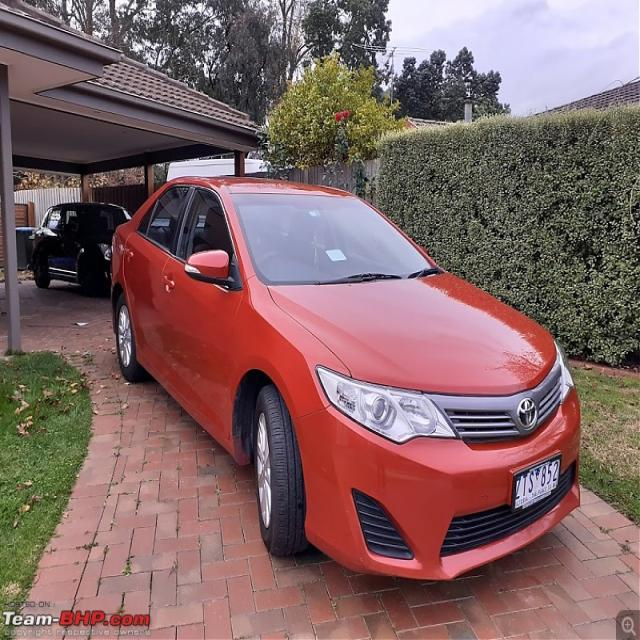light_vehicle: (107, 172, 584, 583)
